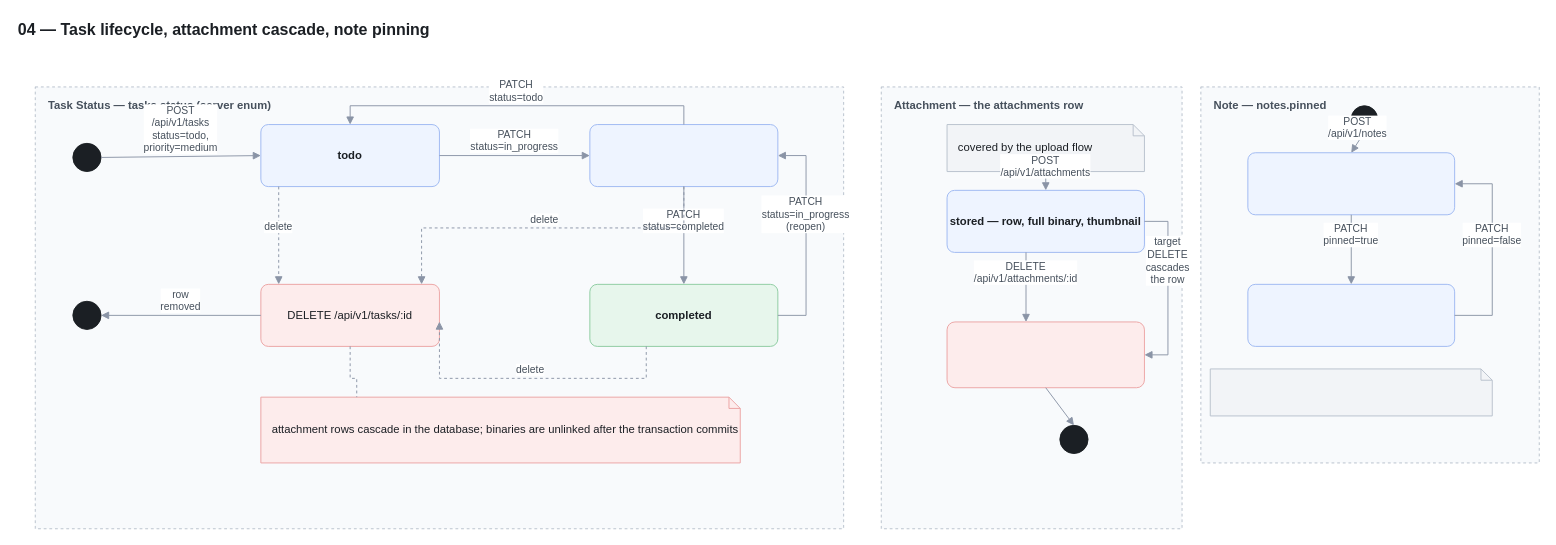
This 1556x545 diagram has some shape labels left out. The centre of each missing label's shape, as x and y in pixels:
"Editing a Note title or body never changes pinned (FR-NOTE-006)." goes at (1350,392).
"in_progress" goes at (683,155).
"pinned (pinned = true)" goes at (1351,314).
"removed — row deleted, binary and thumbnail unlinked" goes at (1045,354).
"unpinned (pinned = false)" goes at (1351,183).
